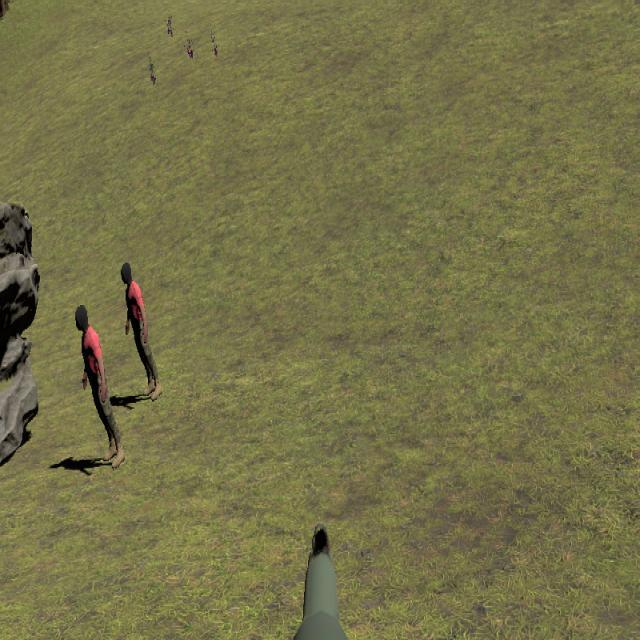Human: (75, 304, 125, 469), (121, 262, 162, 401)
